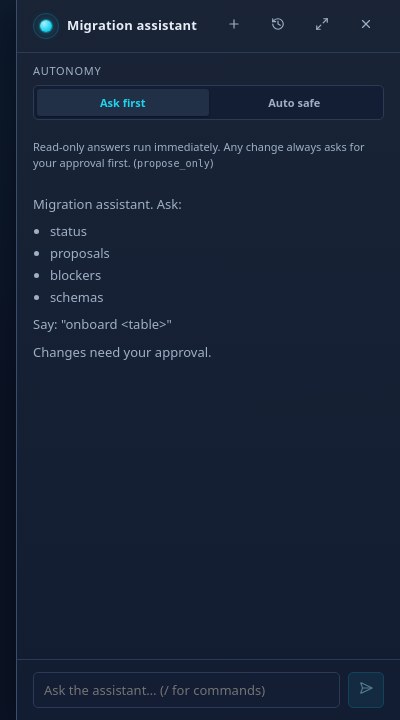
it: AgentSidebar › searches history and shows an empty state for no matches
Click the button named "Conversation history".
click(278, 26)  # box [260,12,296,40]
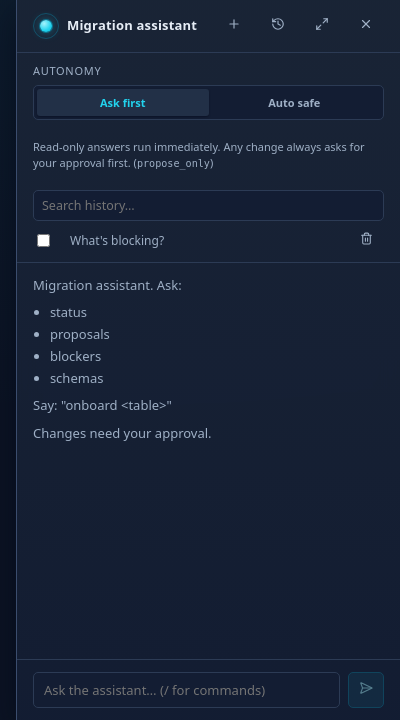
Check: the button "What's blocking?" is shown, box [59,226,343,254]
Type "nothing matches this" into the field named "Search conversation history".
click(208, 205); type("nothing matches this")  # box [33,190,384,220]
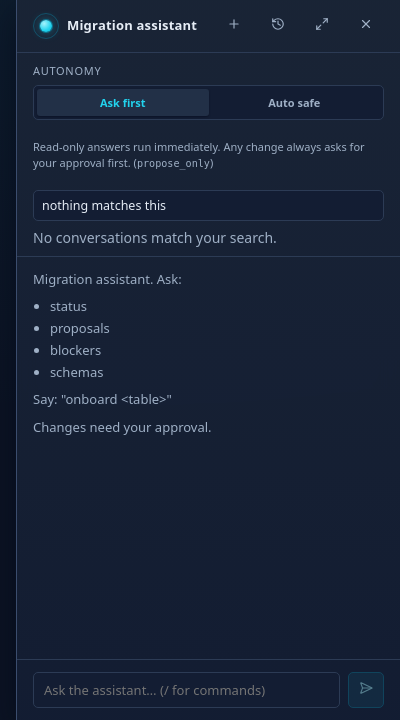
Check: the text "No conversations match your search." is shown, box [33,228,277,246]
